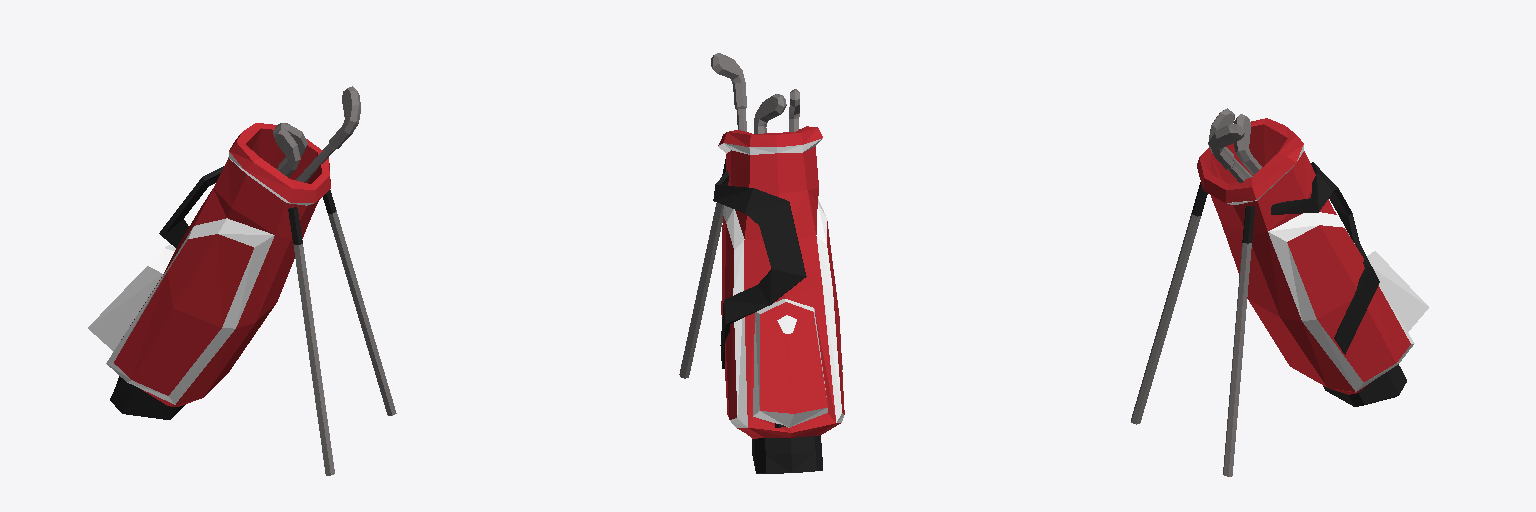
The model's file is golf_bag__1_.obj.
3 renders of one model, left to right at view 1: azimuth 30°, elevation 25°; view 2: azimuth 150°, elevation 25°; view 3: azimuth 270°, elevation 25°, orthographic.
Visible parts, largest first — view 1: golf_bag__1__Scene.005; view 2: golf_bag__1__Scene.005; view 3: golf_bag__1__Scene.005.
Boxes of the visible parts, box(x1,y1,x2,y2) form: golf_bag__1__Scene.005: box(88, 86, 396, 475); golf_bag__1__Scene.005: box(679, 53, 844, 473); golf_bag__1__Scene.005: box(1131, 108, 1428, 476).
Size of the model in its own units: 0.9171 by 1.28 by 1.04.